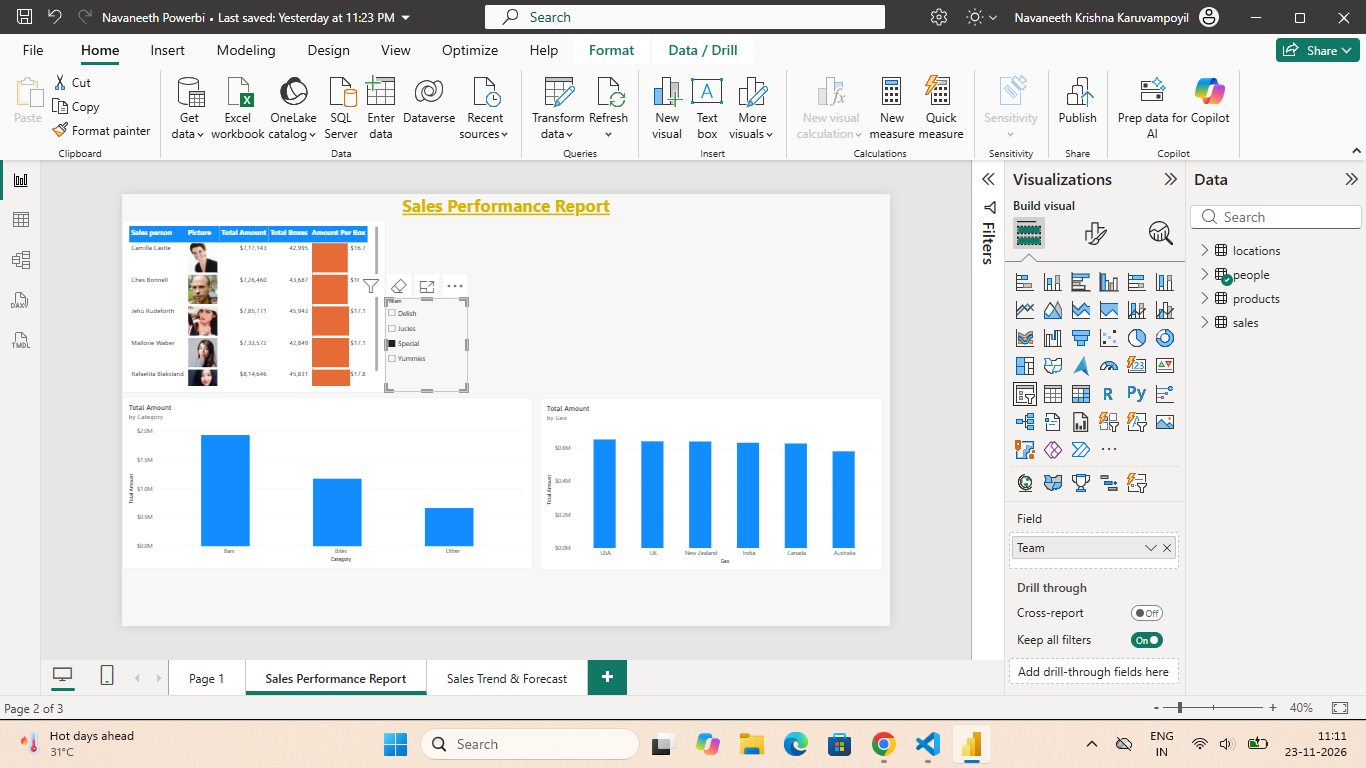

What the dashboard file says about the page in this screenshot:
{"tool":"powerbi","page":{"name":"Sales Performance Report","canvas":[1920,1080],"ordinal":1},"visuals":[{"type":"tableEx","fields":{"Values":["people.Sales person","people.Picture","sales.Total Amount","sales.Total Boxes","sales.Amount Per Box"]},"box":[0,64,658,432],"z":0},{"type":"slicer","fields":{"Values":["people.Team"]},"box":[658,260,208,236],"z":1000},{"type":"columnChart","fields":{"Category":["products.Category"],"Y":["sales.Total Amount"]},"box":[0,508,1026,430],"z":2000},{"type":"columnChart","fields":{"Category":["locations.Geo"],"Y":["sales.Total Amount"]},"box":[1044,510,856,432],"z":3000},{"type":"textbox","box":[0,0,1920,64],"z":4000}]}

Visuals, with their boxes on the page's 1920x1080 design canvas (x1, y1, x2, y2). These are canvas units, not pixel positions in the 1366x768 screenshot, which may show the page scaled, cropped or inside an application window:
tableEx - people.Sales person x people.Picture: (0, 64, 658, 496)
slicer - people.Team: (658, 260, 866, 496)
columnChart - products.Category x sales.Total Amount: (0, 508, 1026, 938)
columnChart - locations.Geo x sales.Total Amount: (1044, 510, 1900, 942)
textbox: (0, 0, 1920, 64)
